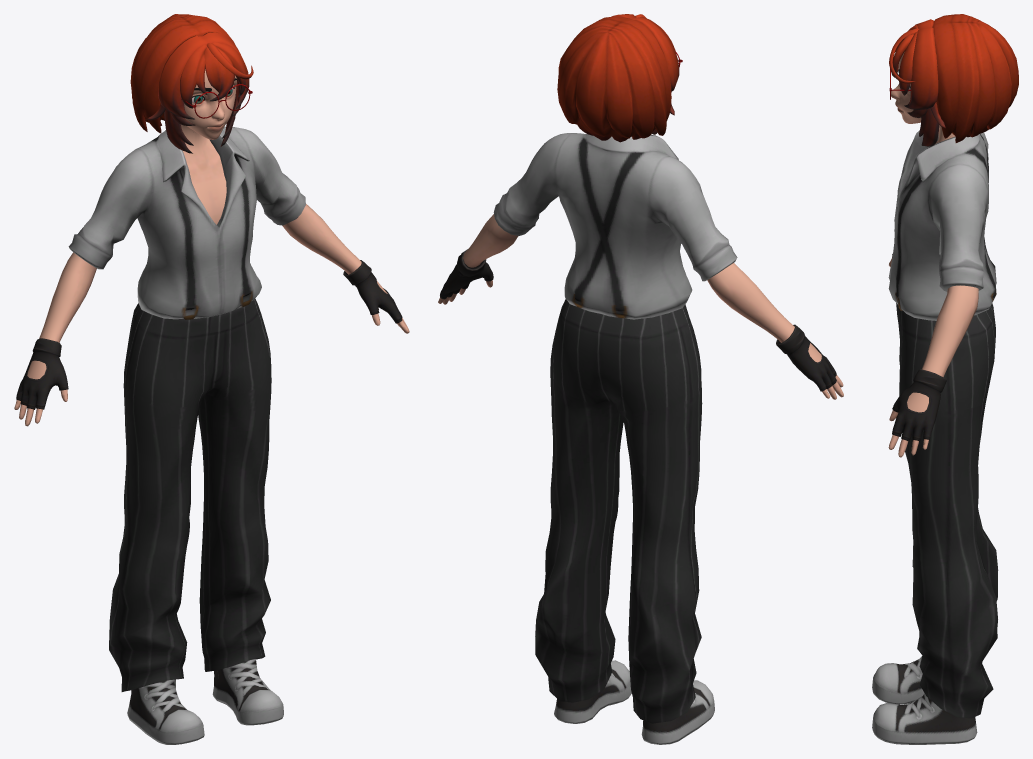
The model's file is StaffBerry_Mesh.obj.
3 renders of one model, left to right at view 1: azimuth 30°, elevation 25°; view 2: azimuth 150°, elevation 25°; view 3: azimuth 270°, elevation 25°, orthographic. The views are drawn at different scales.
Visible parts, largest first — view 1: StaffBerry_Mesh_0; view 2: StaffBerry_Mesh_0; view 3: StaffBerry_Mesh_0.
Part boxes in pixels (<box>): StaffBerry_Mesh_0: <box>14,14,409,744</box>; StaffBerry_Mesh_0: <box>438,14,843,744</box>; StaffBerry_Mesh_0: <box>872,14,1018,744</box>.
Bounding box in the file's own units: 1.06 × 1.81 × 0.3454.
Materials: 1 (1 with a texture image).
